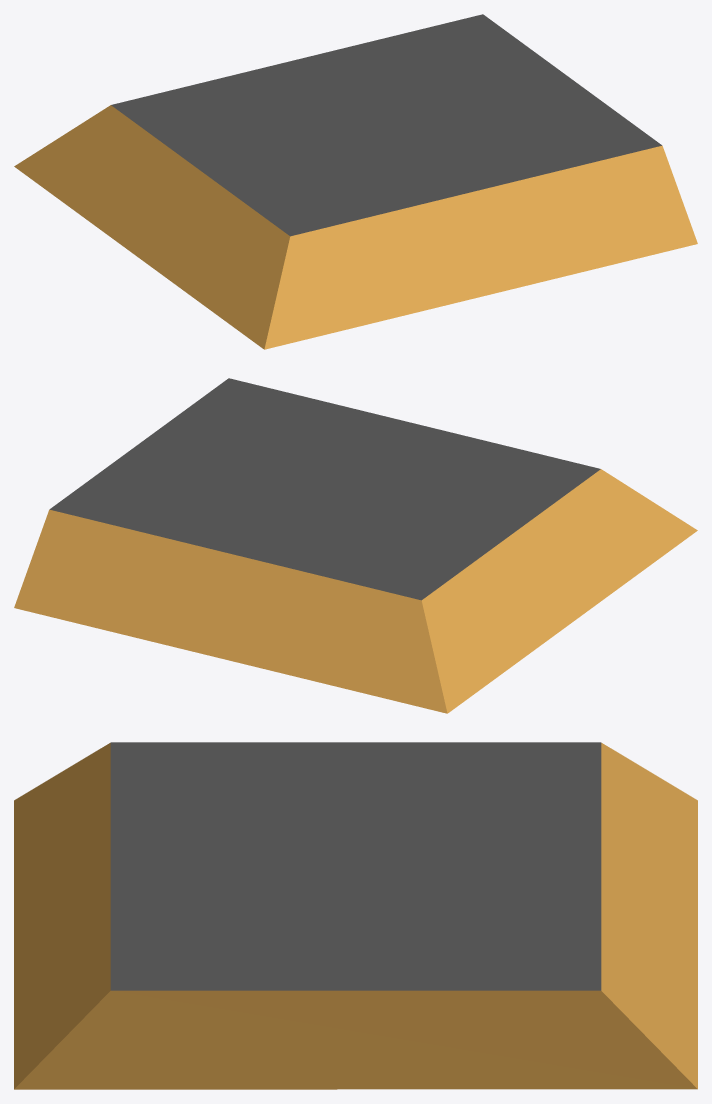
Rendered from Skate_Pill_Box_Cut_01.FBX.
The picture shows the model from 3 angles, top to bottom: view 1: azimuth 30°, elevation 25°; view 2: azimuth 150°, elevation 25°; view 3: azimuth 270°, elevation 25°; orthographic projection. The views are drawn at different scales.
Visible parts, largest first — view 1: Skate_Pill_Box_Cut_01; view 2: Skate_Pill_Box_Cut_01; view 3: Skate_Pill_Box_Cut_01.
Part boxes in pixels (x1,y1,x2,y2): Skate_Pill_Box_Cut_01: (14,14,697,349); Skate_Pill_Box_Cut_01: (14,378,697,713); Skate_Pill_Box_Cut_01: (14,742,697,1089).
Size of the model in its own units: 3 by 0.4789 by 3.
